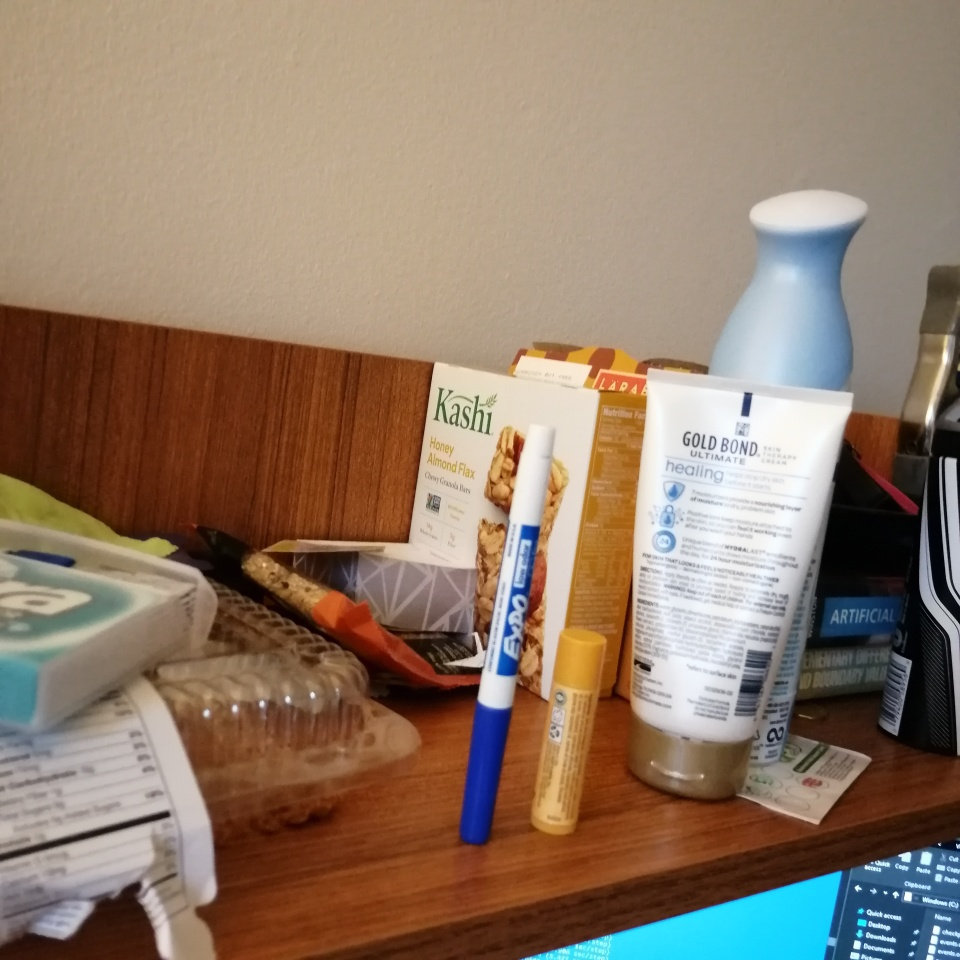chapstick: (531, 627, 608, 835)
